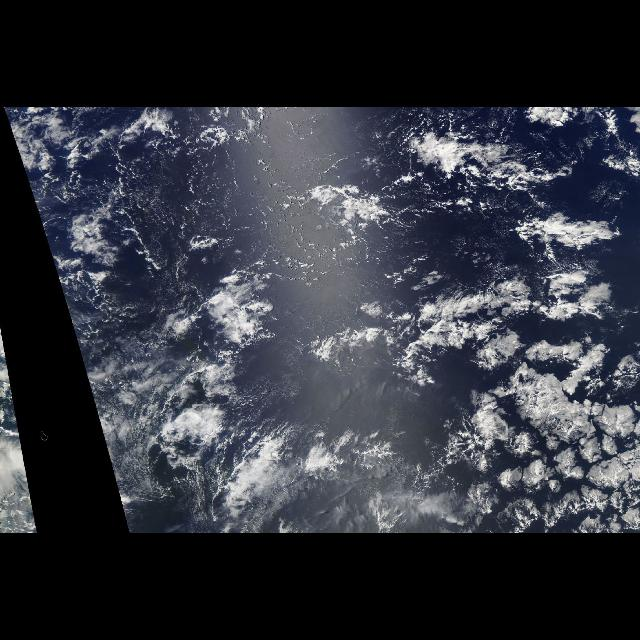Flower: (326, 139, 640, 533)
Gravel: (53, 125, 313, 520)
